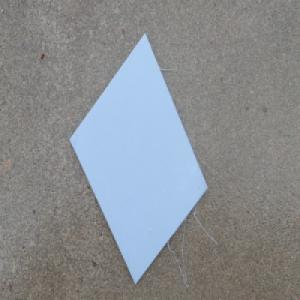PaintChip: (69, 32, 208, 287)
